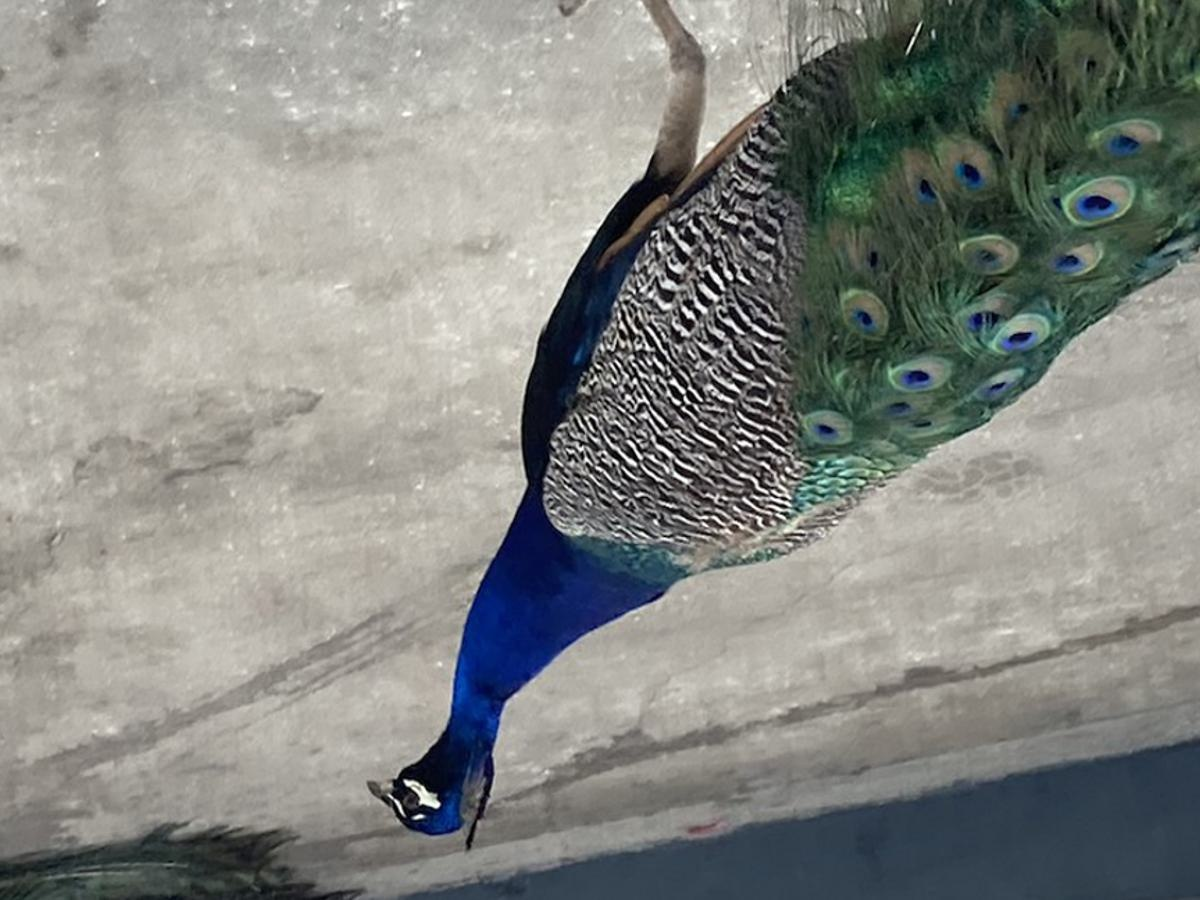peacock: (331, 25, 1200, 864)
